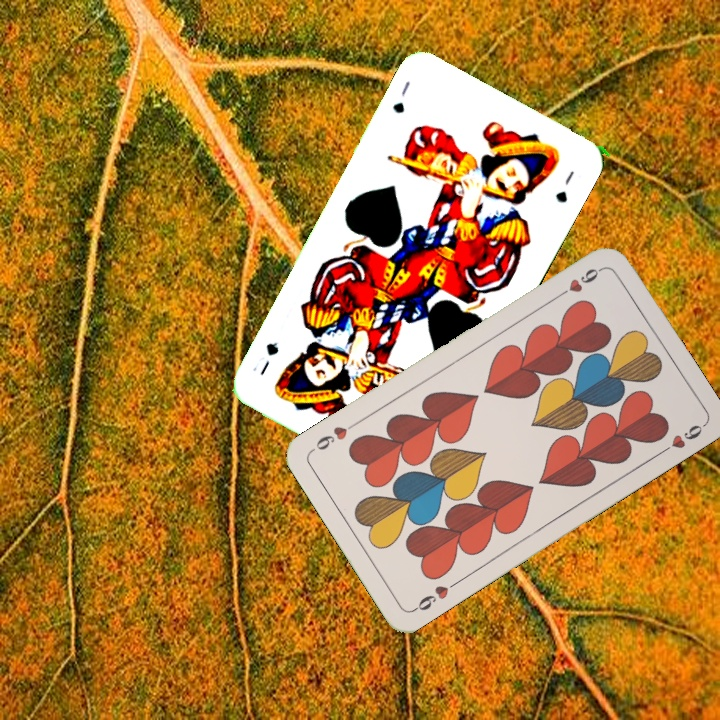GU: (388, 76, 413, 116)
H9: (553, 263, 606, 301), (409, 577, 461, 614)
